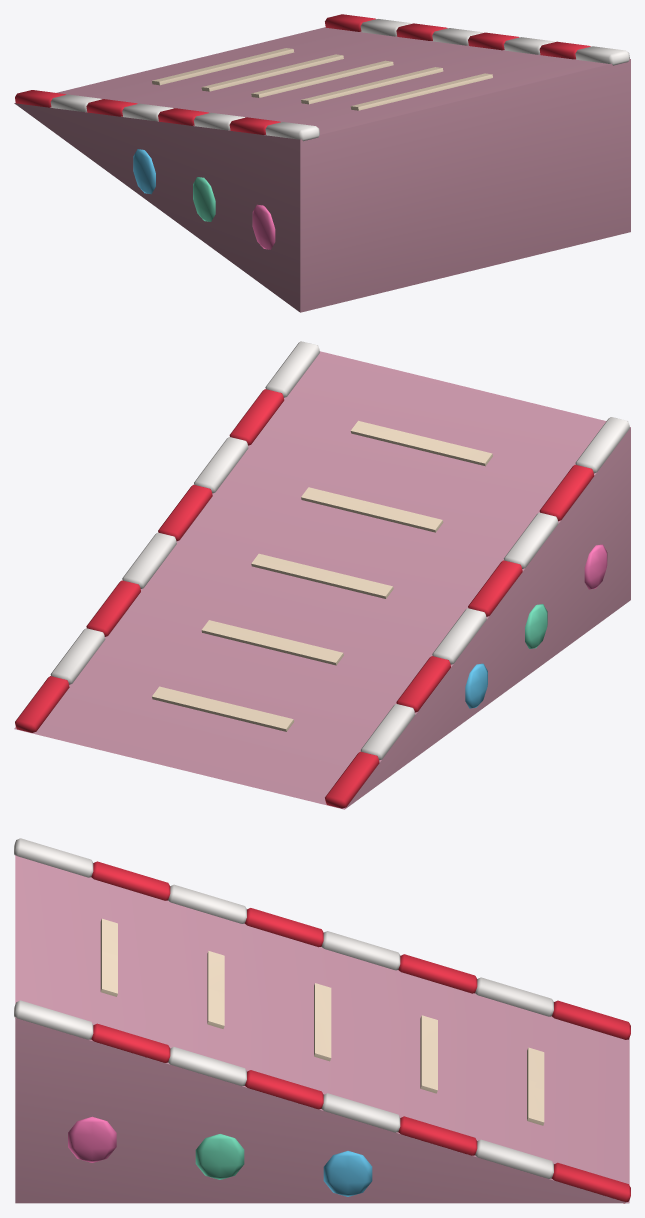
The model's file is candy_ramp.glb.
3 renders of one model, top to bottom at view 1: azimuth 30°, elevation 25°; view 2: azimuth 150°, elevation 25°; view 3: azimuth 270°, elevation 25°, orthographic. The views are drawn at different scales.
Visible parts, largest first — view 1: C_Ramp__C_ice_5, C_Ramp__C_white_5, C_Ramp__C_cream_5, C_Ramp__C_red_2, C_Ramp__C_pink_2, C_Ramp__C_mint_2, C_Ramp__C_sky_2; view 2: C_Ramp__C_ice_5, C_Ramp__C_red_2, C_Ramp__C_white_5, C_Ramp__C_cream_5, C_Ramp__C_pink_2, C_Ramp__C_sky_2, C_Ramp__C_mint_2; view 3: C_Ramp__C_ice_5, C_Ramp__C_white_5, C_Ramp__C_red_2, C_Ramp__C_cream_5, C_Ramp__C_sky_2, C_Ramp__C_mint_2, C_Ramp__C_pink_2.
Part boxes in pixels (x1,y1,x2,y2): C_Ramp__C_ice_5: (14, 27, 630, 312); C_Ramp__C_white_5: (50, 19, 629, 141); C_Ramp__C_cream_5: (152, 48, 492, 110); C_Ramp__C_red_2: (15, 14, 590, 134); C_Ramp__C_pink_2: (252, 204, 275, 249); C_Ramp__C_mint_2: (193, 177, 215, 221); C_Ramp__C_sky_2: (133, 149, 155, 194); C_Ramp__C_ice_5: (14, 351, 630, 809); C_Ramp__C_red_2: (15, 389, 594, 808); C_Ramp__C_white_5: (50, 341, 629, 760); C_Ramp__C_cream_5: (152, 420, 492, 731); C_Ramp__C_pink_2: (584, 544, 607, 589); C_Ramp__C_sky_2: (465, 663, 487, 708); C_Ramp__C_mint_2: (525, 604, 547, 648); C_Ramp__C_ice_5: (15, 855, 629, 1203); C_Ramp__C_white_5: (14, 838, 553, 1178); C_Ramp__C_red_2: (91, 861, 630, 1203); C_Ramp__C_cream_5: (100, 918, 544, 1125); C_Ramp__C_sky_2: (323, 1151, 372, 1196); C_Ramp__C_mint_2: (195, 1134, 244, 1179); C_Ramp__C_pink_2: (68, 1116, 116, 1162).
Bounding box in the file's own units: 4.93 × 2.53 × 7.23.
